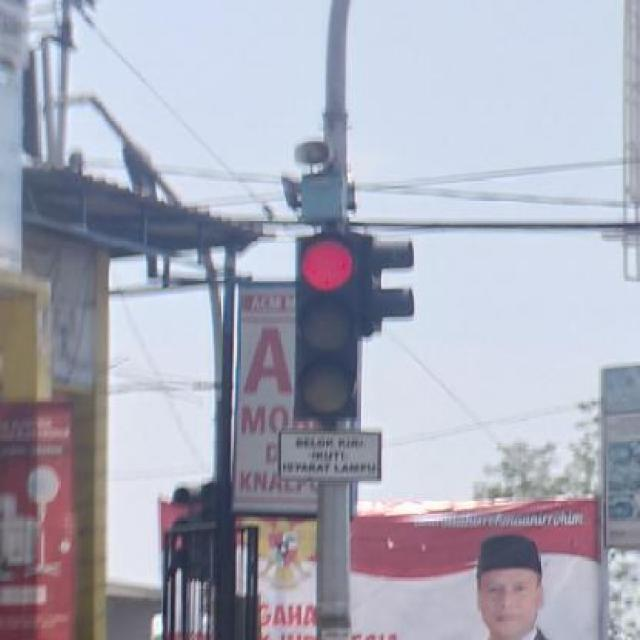traffic light: (294, 237, 362, 423)
